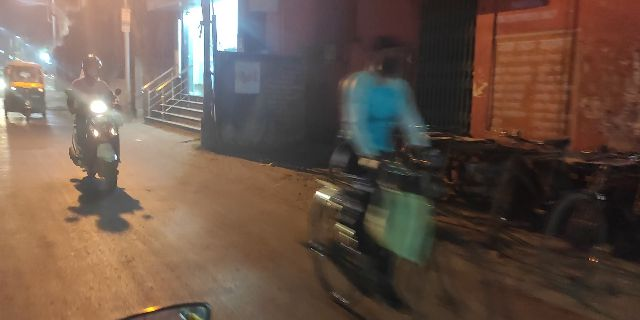Autorickshaw: (7, 62, 48, 125)
Cycle: (287, 45, 499, 320)
Motorbike: (64, 55, 134, 197)
